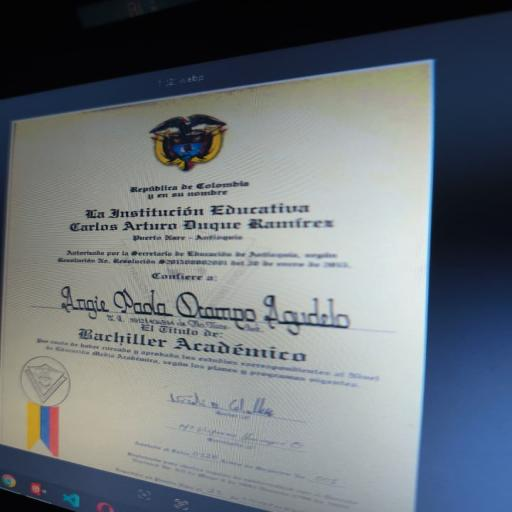bachillerato: (52, 320, 313, 367)
diploma: (0, 60, 436, 512)
escudo: (126, 107, 237, 176)
firma: (135, 409, 322, 467), (149, 375, 339, 428)
institucion: (24, 191, 360, 240)
nombre: (43, 275, 372, 333)
